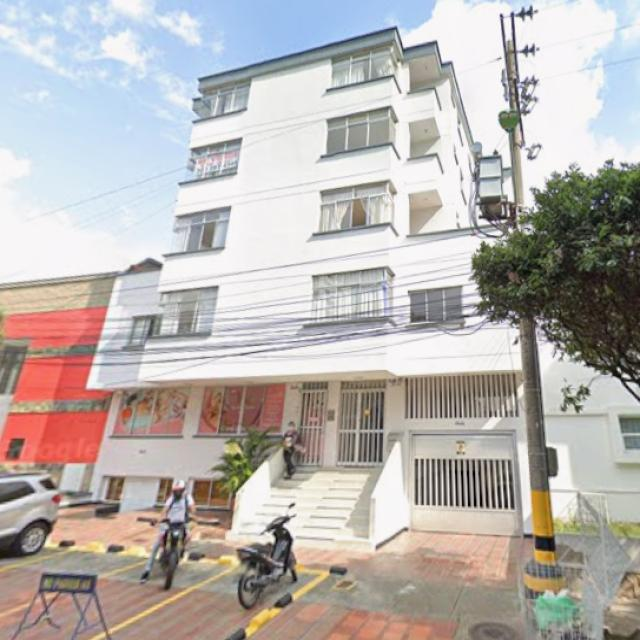Casa: (90, 27, 532, 532), (0, 271, 118, 488)
